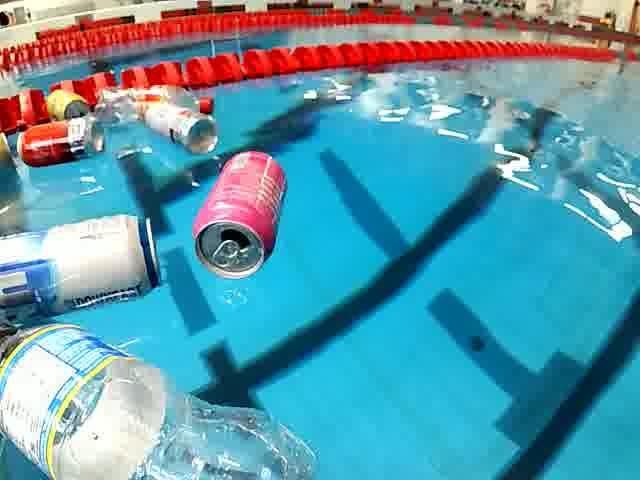Bottle: (1, 313, 322, 480), (93, 80, 219, 134)
Can: (0, 202, 172, 324), (184, 144, 292, 286), (13, 116, 109, 174), (137, 98, 221, 156), (47, 86, 91, 126)
